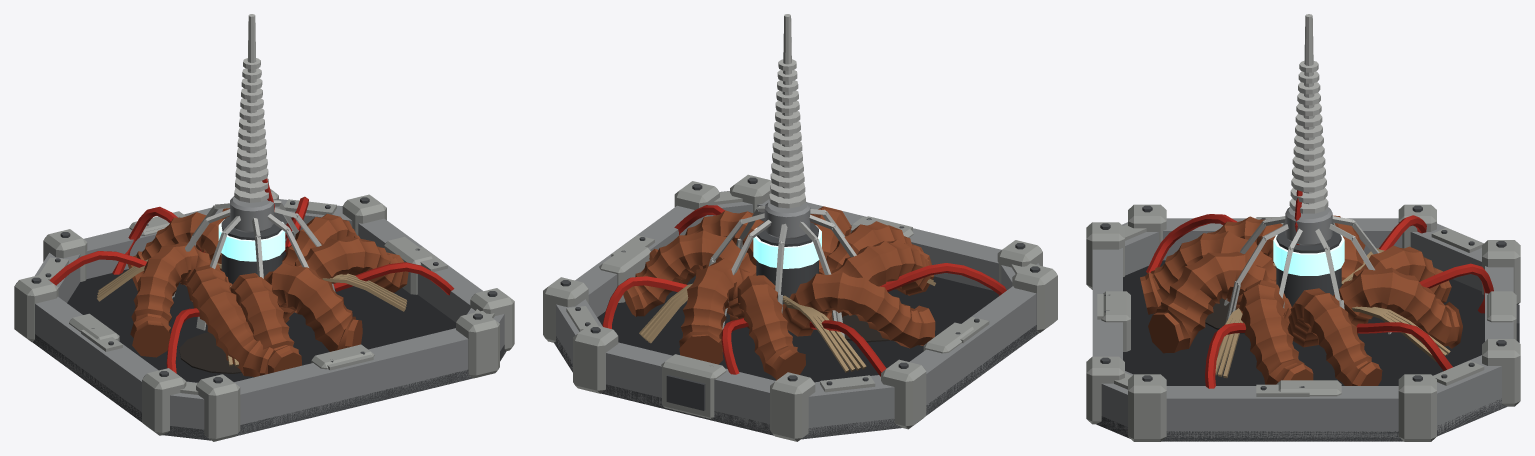
Rendered from beacon.glb.
The picture shows the model from 3 angles, left to right: view 1: azimuth 30°, elevation 25°; view 2: azimuth 150°, elevation 25°; view 3: azimuth 270°, elevation 25°; orthographic projection. The views are drawn at different scales.
Visible parts, largest first — view 1: body, anim_glow_light; view 2: body, anim_glow_light; view 3: body, anim_glow_light.
Boxes of the visible parts, <box> form: body: <box>14,14,514,441</box>; anim_glow_light: <box>218,219,285,261</box>; body: <box>543,14,1057,441</box>; anim_glow_light: <box>753,225,821,268</box>; body: <box>1086,14,1520,441</box>; anim_glow_light: <box>1273,234,1344,275</box>.
Bounding box in the file's own units: 2.97 × 2.5 × 2.93.
